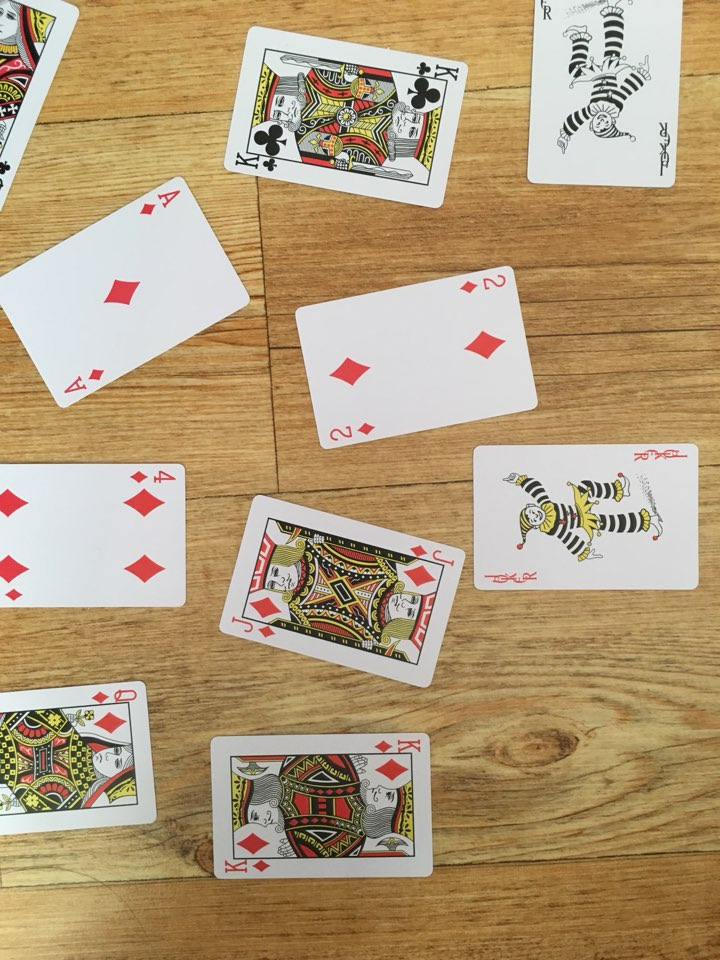ace: (1, 175, 254, 413)
jack: (214, 491, 469, 699)
king: (220, 21, 471, 217), (202, 724, 441, 888)
queen: (1, 670, 164, 837), (2, 2, 81, 223)
